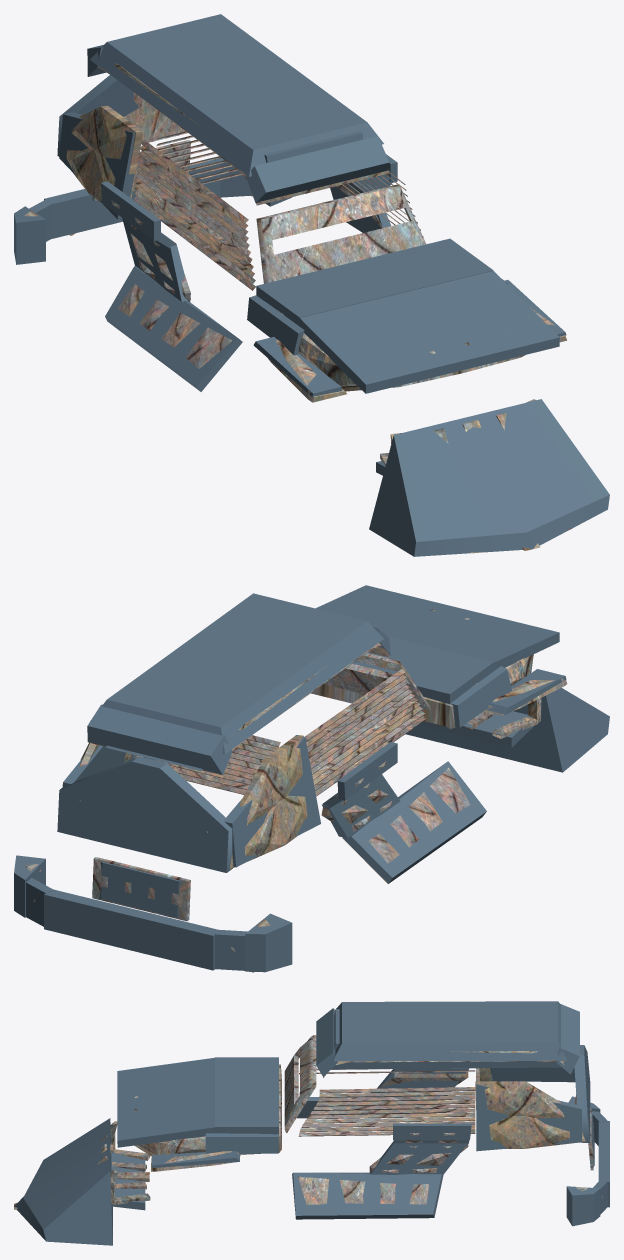
The model's file is Jeep Armor.fbx.
3 views of the same model, one above another, from view 1: azimuth 30°, elevation 25°; view 2: azimuth 150°, elevation 25°; view 3: azimuth 270°, elevation 25° (orthographic). The views are drawn at different scales.
Parts seen in each view (by area): view 1: Armor_Coliders_07_Geo1, Armor_Coliders_04_Geo, Armor_Coliders_07_Geo, Armor_Coliders_08_Geo, Wind_screen, pCube13, Armor_Coliders_18_Geo, Armor_Panel_5_Geo, Armor_Coliders_05_Geo, Armor_Panel_3_Geo, Armor_Coliders_26_Geo, Armor_Coliders_12_Geo (+13 smaller); view 2: Armor_Coliders_04_Geo, Armor_Coliders_02_Geo, Armor_Coliders_07_Geo, Armor_Coliders_26_Geo, pCube13, Armor_Coliders_07_Geo1, Armor_Coliders_18_Geo, Armor_Panel_5_Geo, Armor_Coliders_10_Geo, Armor_Coliders_08_Geo, Armor_Panel_3_Geo, Armor_Coliders_26_Geo1 (+18 smaller); view 3: Armor_Coliders_04_Geo, Armor_Coliders_07_Geo1, Armor_Coliders_07_Geo, pCube13, Armor_Coliders_17_Geo, Armor_Coliders_08_Geo, Armor_Panel_5_Geo, Armor_Panel_2_Geo, Armor_Coliders_09_Geo, Wind_screen, Armor_Coliders_11_Geo, Armor_Coliders_21_Geo (+17 smaller).
Boxes of the visible parts, x1=… form: Armor_Coliders_07_Geo1: x1=369, y1=399, x2=609, y2=556; Armor_Coliders_04_Geo: x1=90, y1=14, x2=383, y2=176; Armor_Coliders_07_Geo: x1=299, y1=271, x2=559, y2=393; Armor_Coliders_08_Geo: x1=256, y1=238, x2=493, y2=326; Wind_screen: x1=256, y1=184, x2=425, y2=283; pCube13: x1=133, y1=139, x2=423, y2=290; Armor_Coliders_18_Geo: x1=105, y1=266, x2=242, y2=391; Armor_Panel_5_Geo: x1=66, y1=92, x2=185, y2=201; Armor_Coliders_05_Geo: x1=245, y1=136, x2=390, y2=202; Armor_Panel_3_Geo: x1=111, y1=200, x2=232, y2=368; Armor_Coliders_26_Geo: x1=44, y1=157, x2=220, y2=238; Armor_Coliders_12_Geo: x1=122, y1=218, x2=190, y2=301; Armor_Coliders_04_Geo: x1=90, y1=593, x2=383, y2=754; Armor_Coliders_02_Geo: x1=57, y1=756, x2=232, y2=872; Armor_Coliders_07_Geo: x1=315, y1=585, x2=559, y2=672; Armor_Coliders_26_Geo: x1=44, y1=889, x2=216, y2=970; pCube13: x1=134, y1=669, x2=426, y2=796; Armor_Coliders_07_Geo1: x1=405, y1=688, x2=609, y2=772; Armor_Coliders_18_Geo: x1=342, y1=761, x2=486, y2=883; Armor_Panel_5_Geo: x1=79, y1=735, x2=307, y2=869; Armor_Coliders_10_Geo: x1=87, y1=704, x2=232, y2=774; Armor_Coliders_08_Geo: x1=352, y1=636, x2=493, y2=703; Armor_Panel_3_Geo: x1=321, y1=761, x2=470, y2=883; Armor_Coliders_26_Geo1: x1=99, y1=861, x2=190, y2=918; Armor_Coliders_04_Geo: x1=332, y1=1001, x2=567, y2=1061; Armor_Coliders_07_Geo1: x1=14, y1=1118, x2=112, y2=1245; Armor_Coliders_07_Geo: x1=117, y1=1057, x2=217, y2=1147; pCube13: x1=298, y1=1068, x2=475, y2=1136; Armor_Coliders_17_Geo: x1=292, y1=1172, x2=443, y2=1219; Armor_Coliders_08_Geo: x1=215, y1=1057, x2=278, y2=1134; Armor_Panel_5_Geo: x1=475, y1=1068, x2=585, y2=1148; Armor_Panel_2_Geo: x1=298, y1=1133, x2=468, y2=1205; Armor_Coliders_09_Geo: x1=476, y1=1081, x2=581, y2=1151; Wind_screen: x1=284, y1=1035, x2=316, y2=1132; Armor_Coliders_11_Geo: x1=370, y1=1140, x2=469, y2=1175; Armor_Coliders_21_Geo: x1=331, y1=1009, x2=561, y2=1069.
Size of the model in its own units: 2.07 by 1.75 by 5.
